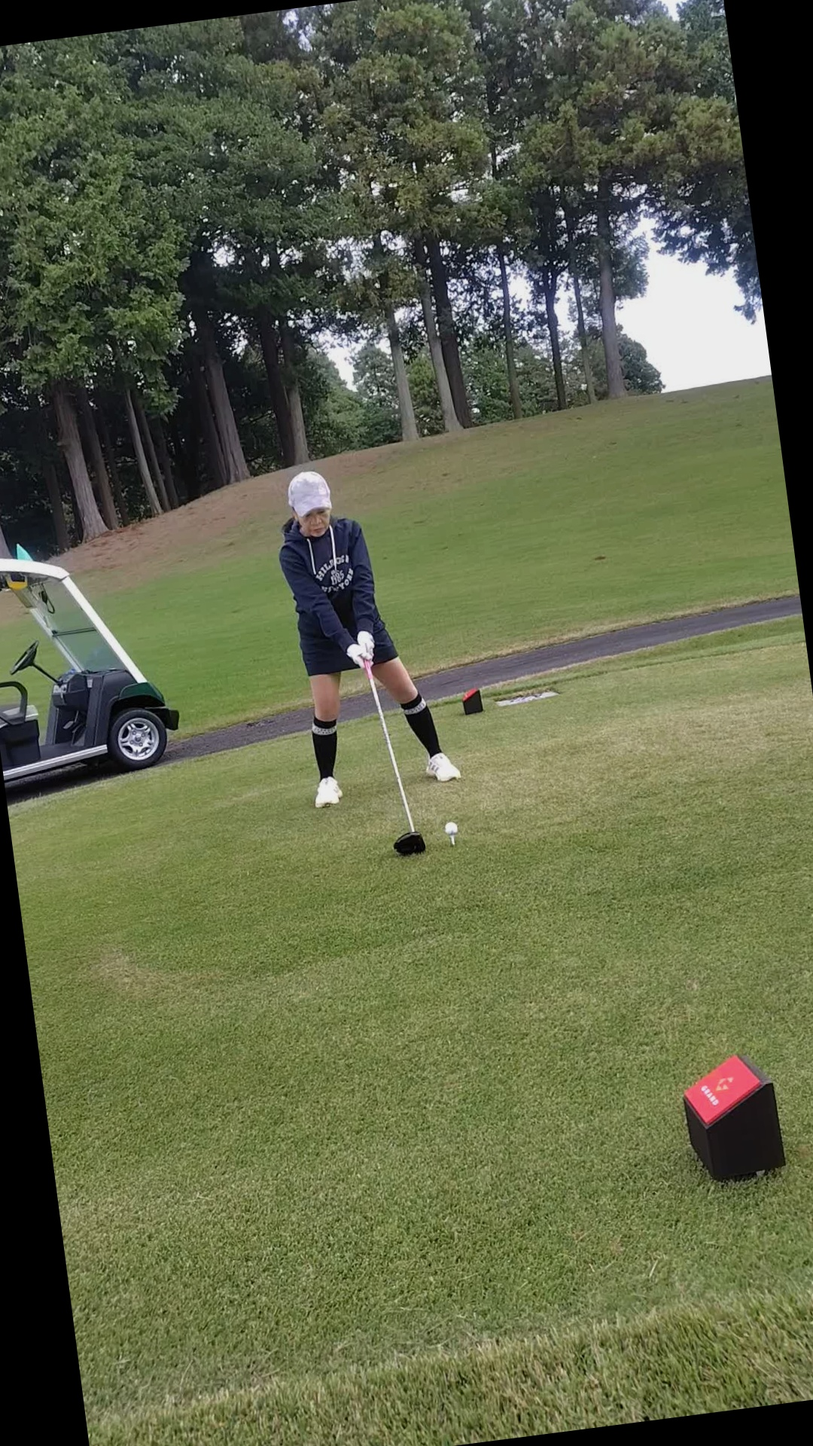clubhead: (327, 766, 569, 960)
